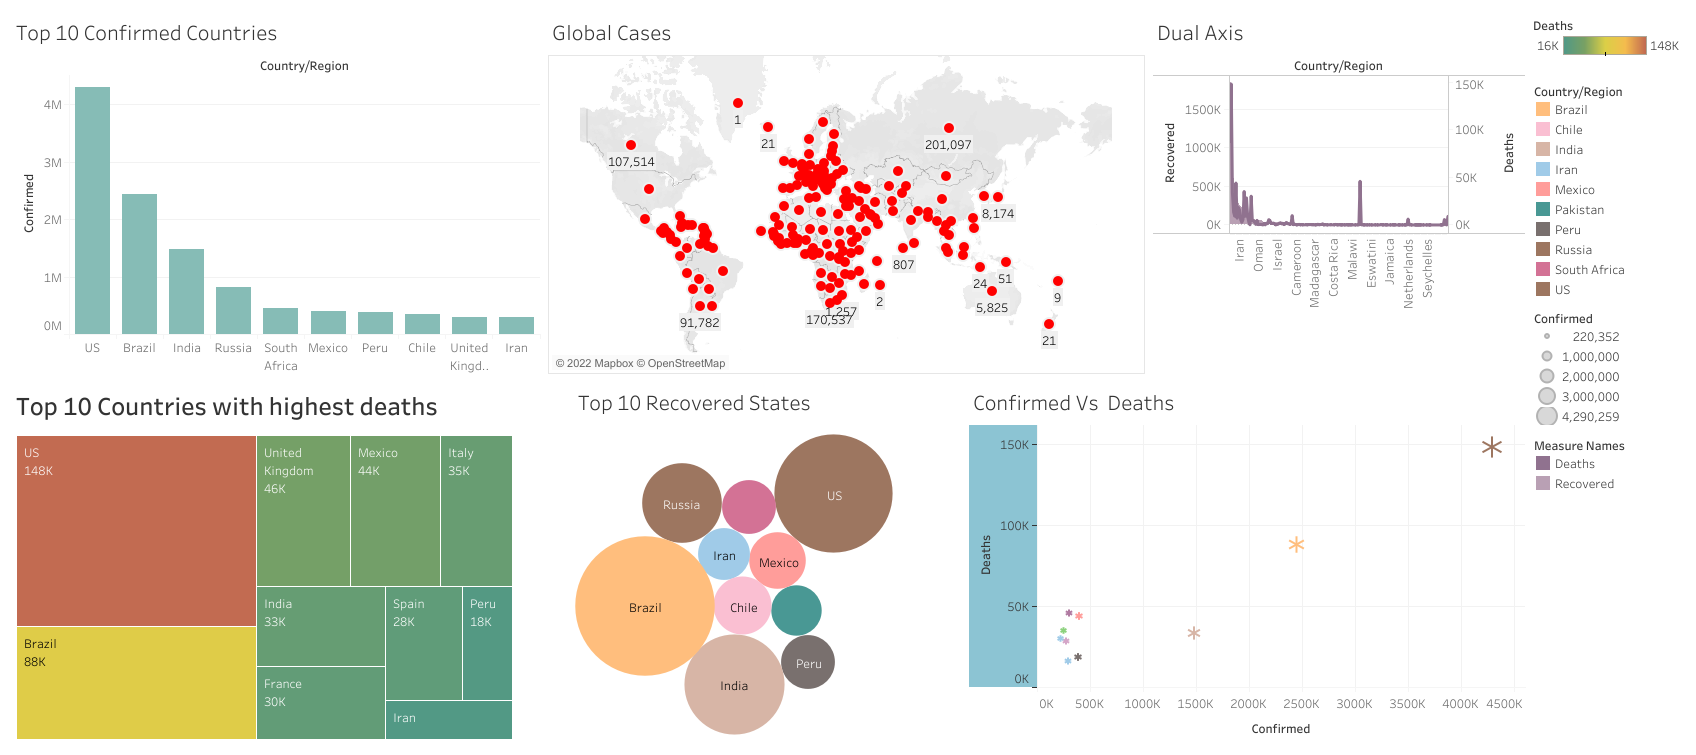

This screenshot's page, from the dashboard's own definition file:
{"tool":"tableau","page":{"name":"Covid_dataset_analysis","canvas":[1000,1000],"units":"permille","ordinal":0},"visuals":[{"type":"worksheet","title":"Top 10 Confirmed Countries","mark":"Automatic","rows":["Confirmed"],"cols":["Country/Region"],"box":[4.7,10.6,315.7,489.4]},{"type":"worksheet","title":"Global Cases","mark":"Automatic","box":[320.4,10.6,356.5,489.4]},{"type":"worksheet","title":"Dual Axis","mark":"Line","rows":["Recovered","Deaths"],"cols":["Country/Region"],"box":[676.9,10.6,224.1,489.4]},{"type":"legend","title":"Top 10 Countries with highest deaths","param":"[federated.1r5jac11rizyzj10f0jcy176vwzq].[sum:Deaths:qk]","box":[901,10.6,94.3,90]},{"type":"legend","title":"Recovery cases","param":"[federated.1r5jac11rizyzj10f0jcy176vwzq].[none:Country/Region:nk]","box":[901,100.5,94.3,300.3]},{"type":"legend","title":"Confirmed Vs  Deaths","param":"[federated.1r5jac11rizyzj10f0jcy176vwzq].[sum:Confirmed:qk]","box":[901,400.8,94.3,168]},{"type":"worksheet","title":"Top 10 Countries with highest deaths","mark":"Automatic","box":[4.7,500,331.2,489.4]},{"type":"worksheet","title":"Recovery cases","mark":"Circle","box":[335.9,500,232.6,489.4]},{"type":"worksheet","title":"Confirmed Vs  Deaths","mark":"Automatic","rows":["Deaths"],"cols":["Confirmed"],"box":[568.5,500,332.5,489.4]},{"type":"legend","title":"Dual Axis","param":"[federated.1r5jac11rizyzj10f0jcy176vwzq].[:Measure Names]","box":[901,568.8,94.3,88.6]}]}

Visuals, with their boxes on the dashboard's canvas, which has no fixed pixel size, in thousandths of its width and height (x1, y1, x2, y2). These are canvas units, not pixel positions in the 1696x755 screenshot, which may show the page scaled, cropped or inside an application window:
"Top 10 Confirmed Countries" worksheet: 5/11/320/500
"Global Cases" worksheet: 320/11/677/500
"Dual Axis" worksheet (Line marks): 677/11/901/500
"Top 10 Countries with highest deaths" legend: 901/11/995/101
"Recovery cases" legend: 901/100/995/401
"Confirmed Vs  Deaths" legend: 901/401/995/569
"Top 10 Countries with highest deaths" worksheet: 5/500/336/989
"Recovery cases" worksheet (Circle marks): 336/500/568/989
"Confirmed Vs  Deaths" worksheet: 568/500/901/989
"Dual Axis" legend: 901/569/995/657
